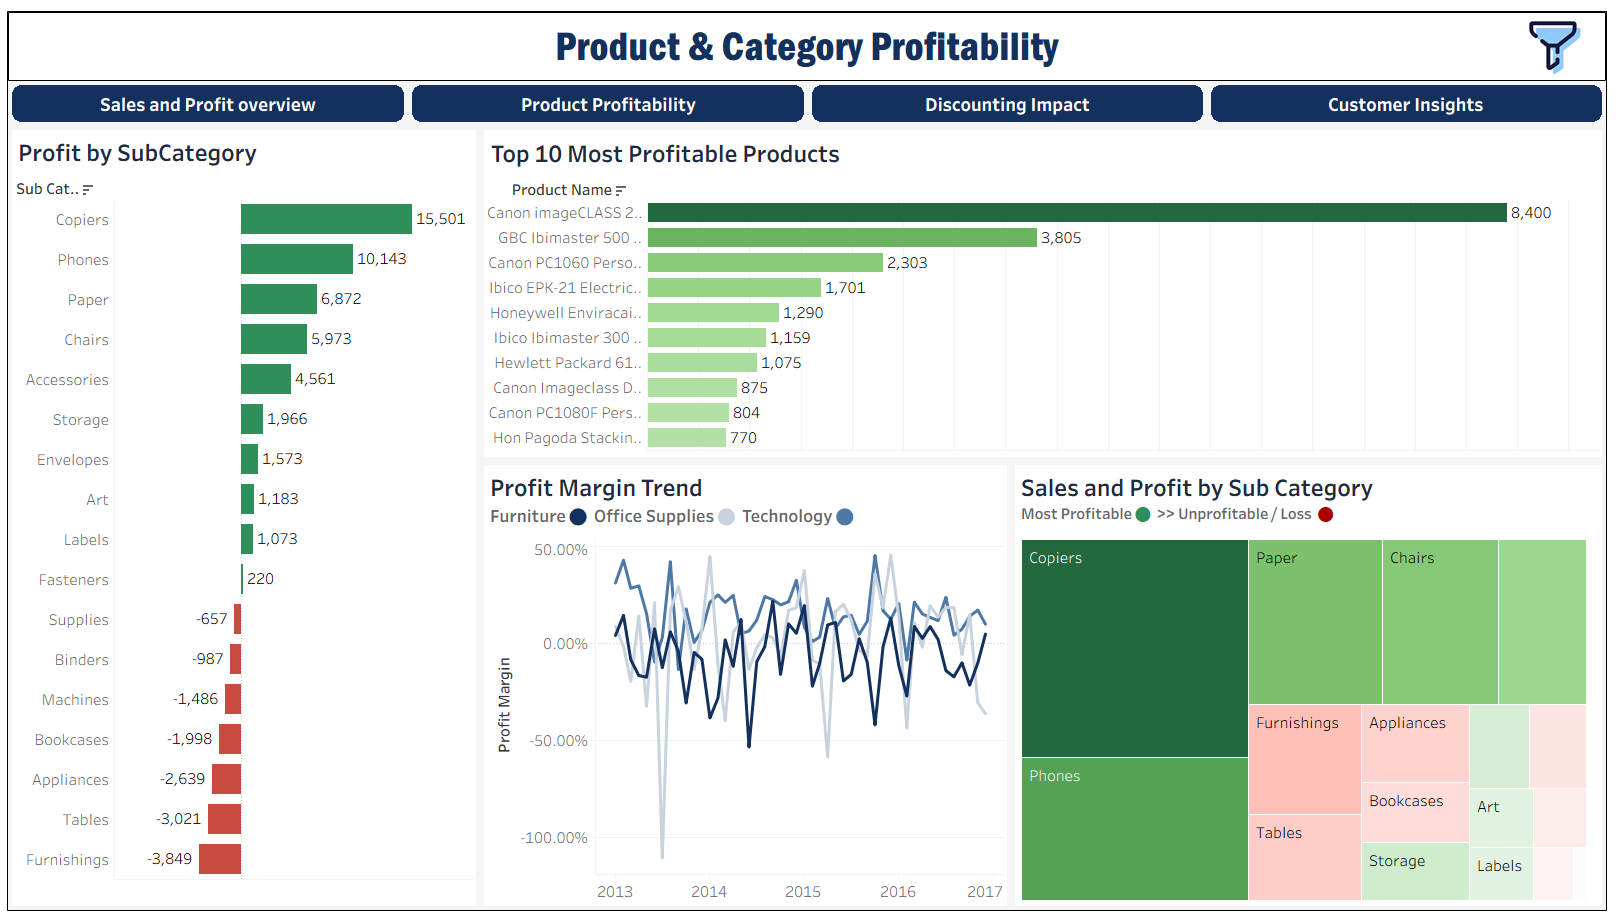

This screenshot's page, from the dashboard's own definition file:
{"tool":"tableau","page":{"name":"Product & Category Profitability","canvas":[1600,900],"ordinal":2},"visuals":[{"type":"text","box":[1,1,1598,68.6]},{"type":"dashboard-object","box":[1505,2,80,63]},{"type":"dashboard-object","box":[1,70,400,45]},{"type":"dashboard-object","box":[401,70,400,45]},{"type":"dashboard-object","box":[801,70,399,45]},{"type":"dashboard-object","box":[1200,70,399,45]},{"type":"blank","box":[1308,80.6,280,35]},{"type":"worksheet","title":"Profit by SubCategory","mark":"Automatic","rows":["SubCategory"],"cols":["Profit"],"box":[1,115,472,784]},{"type":"worksheet","title":"Top 10 Most Profitable Products","mark":"Automatic","rows":["ProductName"],"cols":["Profit"],"box":[473,115,1126,335]},{"type":"text","box":[1308,115.6,280,38]},{"type":"parameter","param":"[Parameters].[Parameter 1773839578595330]","box":[1308,153.6,280,56]},{"type":"filter","title":"Profit by SubCategory","param":"[federated.0opk25x1w8ugs31a36b841grpmjb].[none:Segment:nk]","box":[1308,209.6,280,64]},{"type":"filter","title":"Profit by SubCategory","param":"[federated.0opk25x1w8ugs31a36b841grpmjb].[none:ShipMode:nk]","box":[1308,273.6,280,98]},{"type":"text","box":[1308,371.6,280,37]},{"type":"filter","title":"Profit by SubCategory","param":"[federated.0opk25x1w8ugs31a36b841grpmjb].[none:Category:nk]","box":[1308,408.6,280,61]},{"type":"worksheet","title":"Profit Margin Trend","mark":"Automatic","rows":["Calculation_0463223229980672"],"cols":["OrderDate"],"box":[473,450,531,449]},{"type":"worksheet","title":"Sales by Sub Category","mark":"Automatic","box":[1004,450,595,449]},{"type":"filter","title":"Profit by SubCategory","param":"[federated.0opk25x1w8ugs31a36b841grpmjb].[none:SubCategory:nk]","box":[1308,469.6,280,103]},{"type":"text","box":[1308,572.6,280,32]},{"type":"filter","title":"Profit by SubCategory","param":"[federated.0opk25x1w8ugs31a36b841grpmjb].[none:State:nk]","box":[1308,604.6,280,61]},{"type":"filter","title":"Profit by SubCategory","param":"[federated.0opk25x1w8ugs31a36b841grpmjb].[none:City:nk]","box":[1308,665.6,280,61]}]}

Visuals, with their boxes in screenshot pixels (x1, y1, x2, y2), scaled from the page's 1600x900 canvas onto the 1616x916 screenshot:
text: l=1, t=1, r=1615, b=71
dashboard-object: l=1520, t=2, r=1601, b=66
dashboard-object: l=1, t=71, r=405, b=117
dashboard-object: l=405, t=71, r=809, b=117
dashboard-object: l=809, t=71, r=1212, b=117
dashboard-object: l=1212, t=71, r=1615, b=117
blank: l=1321, t=82, r=1604, b=118
"Profit by SubCategory" worksheet: l=1, t=117, r=478, b=915
"Top 10 Most Profitable Products" worksheet: l=478, t=117, r=1615, b=458
text: l=1321, t=118, r=1604, b=156
parameter: l=1321, t=156, r=1604, b=213
"Profit by SubCategory" filter: l=1321, t=213, r=1604, b=278
"Profit by SubCategory" filter: l=1321, t=278, r=1604, b=378
text: l=1321, t=378, r=1604, b=416
"Profit by SubCategory" filter: l=1321, t=416, r=1604, b=478
"Profit Margin Trend" worksheet: l=478, t=458, r=1014, b=915
"Sales by Sub Category" worksheet: l=1014, t=458, r=1615, b=915
"Profit by SubCategory" filter: l=1321, t=478, r=1604, b=583
text: l=1321, t=583, r=1604, b=615
"Profit by SubCategory" filter: l=1321, t=615, r=1604, b=677
"Profit by SubCategory" filter: l=1321, t=677, r=1604, b=740
